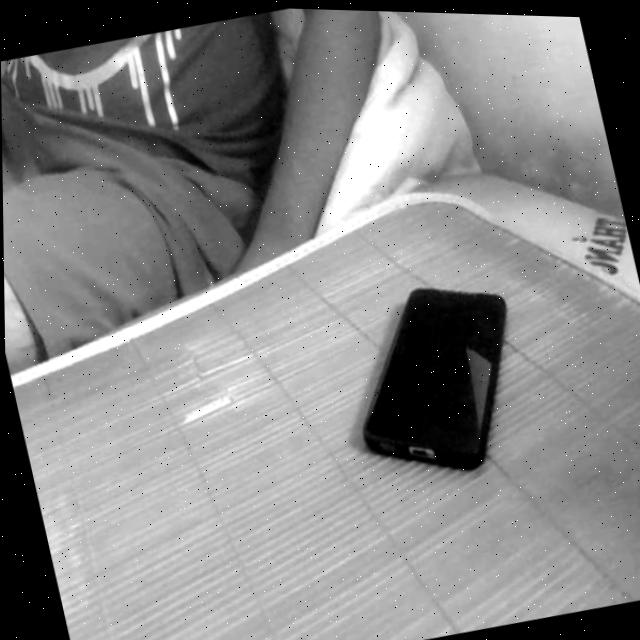phone: (309, 242, 565, 519)
